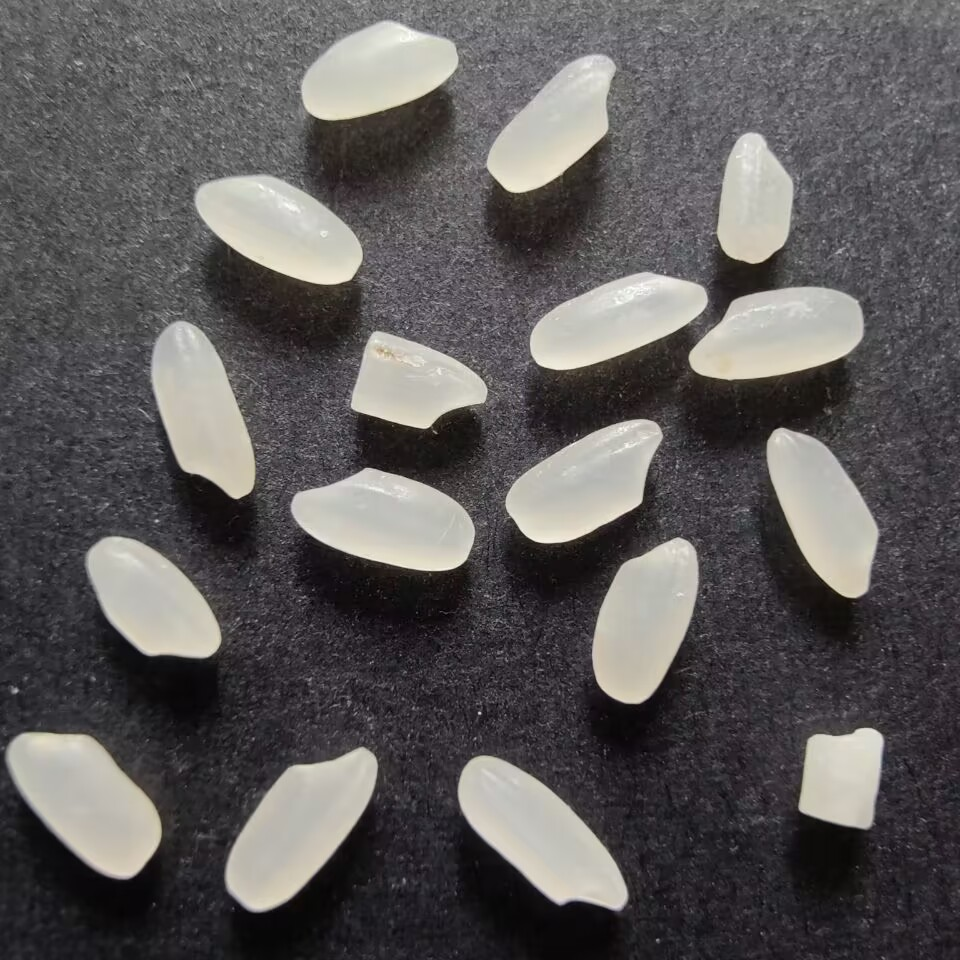broken: (350, 326, 492, 431), (711, 129, 801, 267), (789, 722, 888, 835)
rice: (454, 753, 630, 913), (221, 741, 382, 912), (1, 730, 167, 881), (501, 413, 665, 548), (762, 423, 885, 602), (147, 319, 263, 507), (287, 463, 477, 576), (189, 173, 367, 288), (587, 535, 705, 705), (482, 52, 620, 197), (525, 267, 712, 370), (84, 533, 228, 664), (296, 15, 462, 126), (685, 285, 870, 379)
